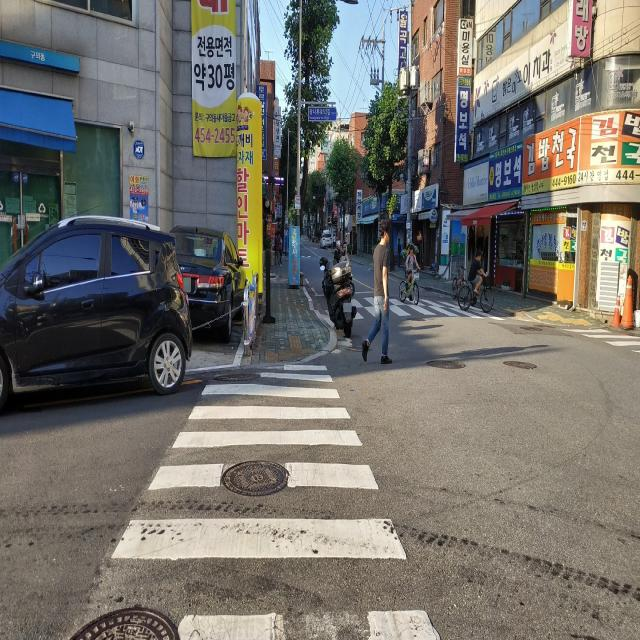횡단보도: (108, 362, 443, 640), (398, 301, 452, 316)
